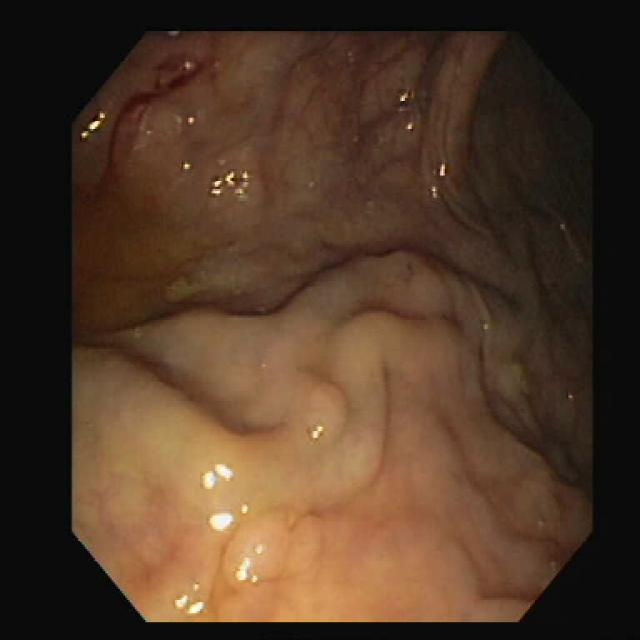tumor: (220, 511, 312, 580), (305, 382, 350, 460)
